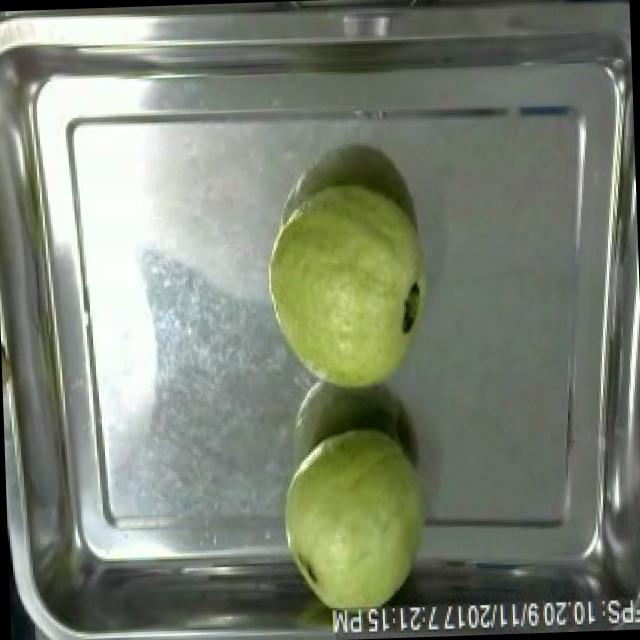Fruit: (255, 175, 439, 399), (272, 418, 440, 628)
